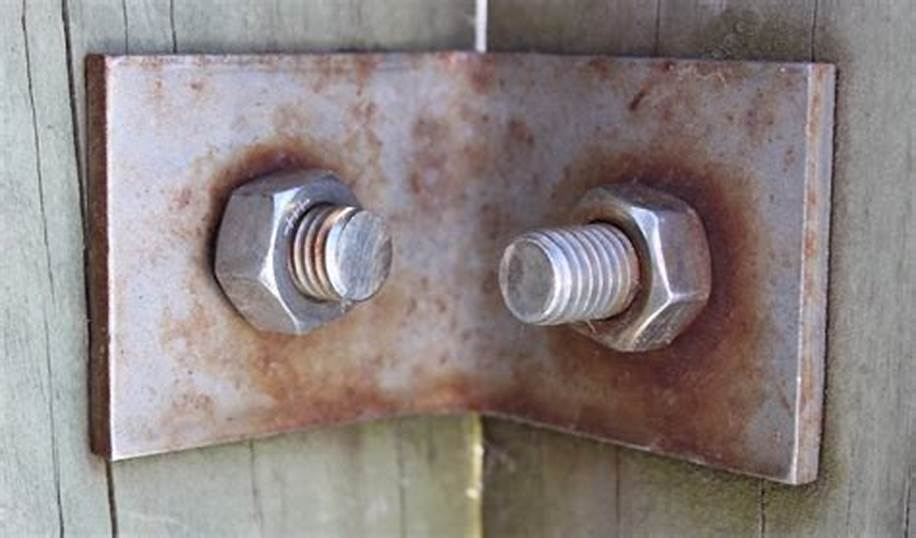bolt_b: (544, 176, 714, 357), (211, 169, 372, 334)
